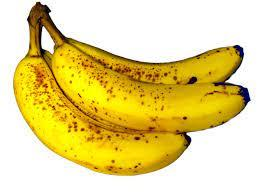Banana Ripe: (11, 24, 194, 173), (43, 30, 256, 131), (49, 26, 260, 89)
